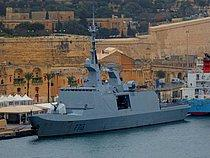MIL_Ship: (27, 22, 191, 139)
